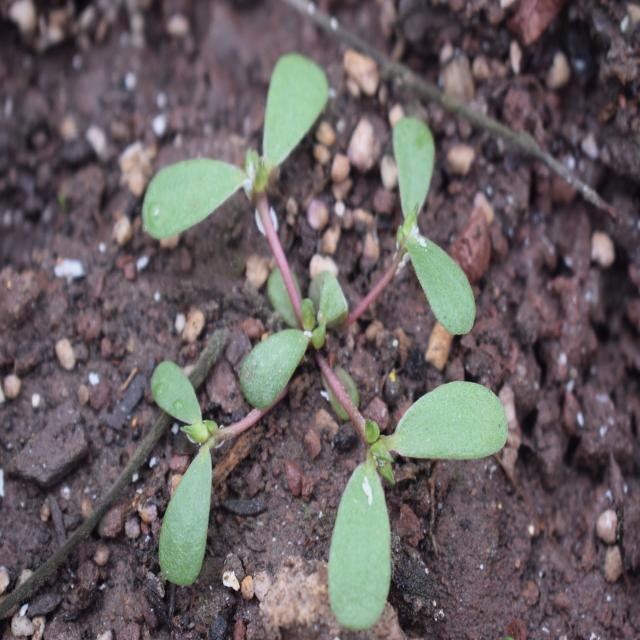purslane: (128, 45, 516, 620)
